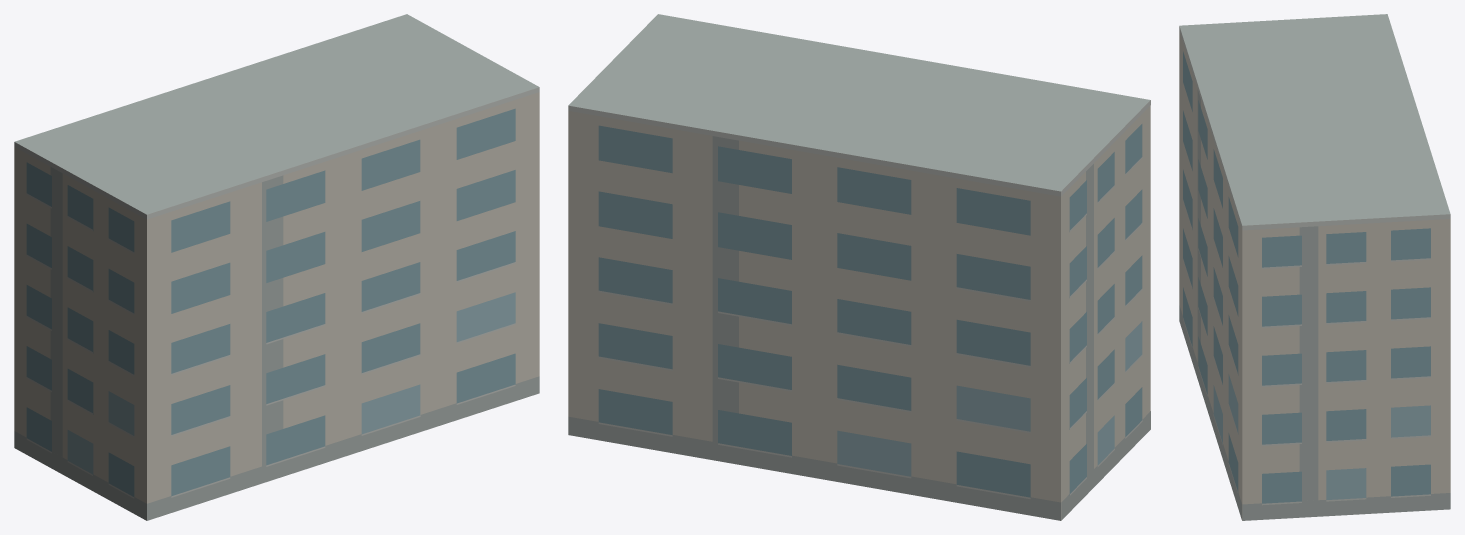
File: survey-upis-32595581.glb
3 renders of one model, left to right at view 1: azimuth 30°, elevation 25°; view 2: azimuth 150°, elevation 25°; view 3: azimuth 270°, elevation 25°, orthographic. The views are drawn at different scales.
Parts seen in each view (by area): view 1: survey-upis-32595581.tmp; view 2: survey-upis-32595581.tmp; view 3: survey-upis-32595581.tmp.
Boxes of the visible parts, x1,y1,x2,y2 form: survey-upis-32595581.tmp: (14,14,539,520); survey-upis-32595581.tmp: (568,14,1150,520); survey-upis-32595581.tmp: (1179,14,1450,520).
Size of the model in its own units: 23.47 by 15.25 by 12.71.
